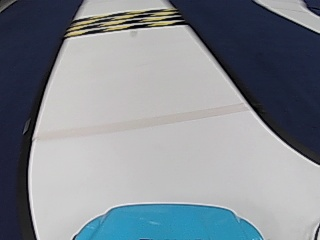bump: (87, 7, 178, 36)
